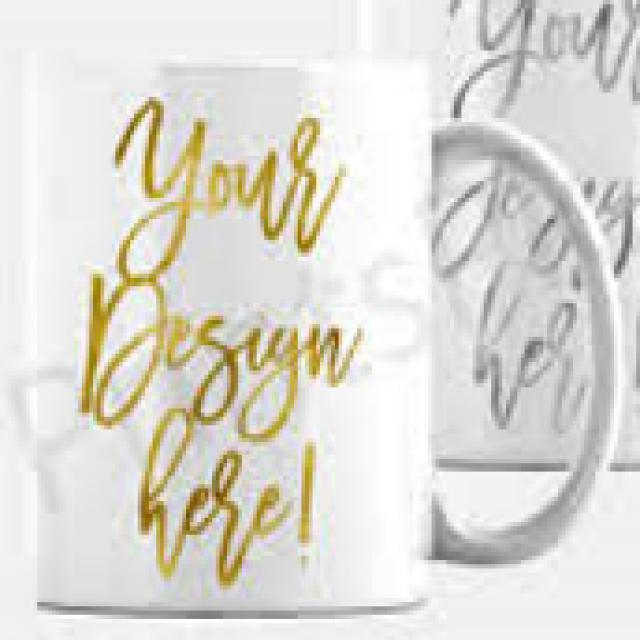taza: (12, 38, 626, 618)
